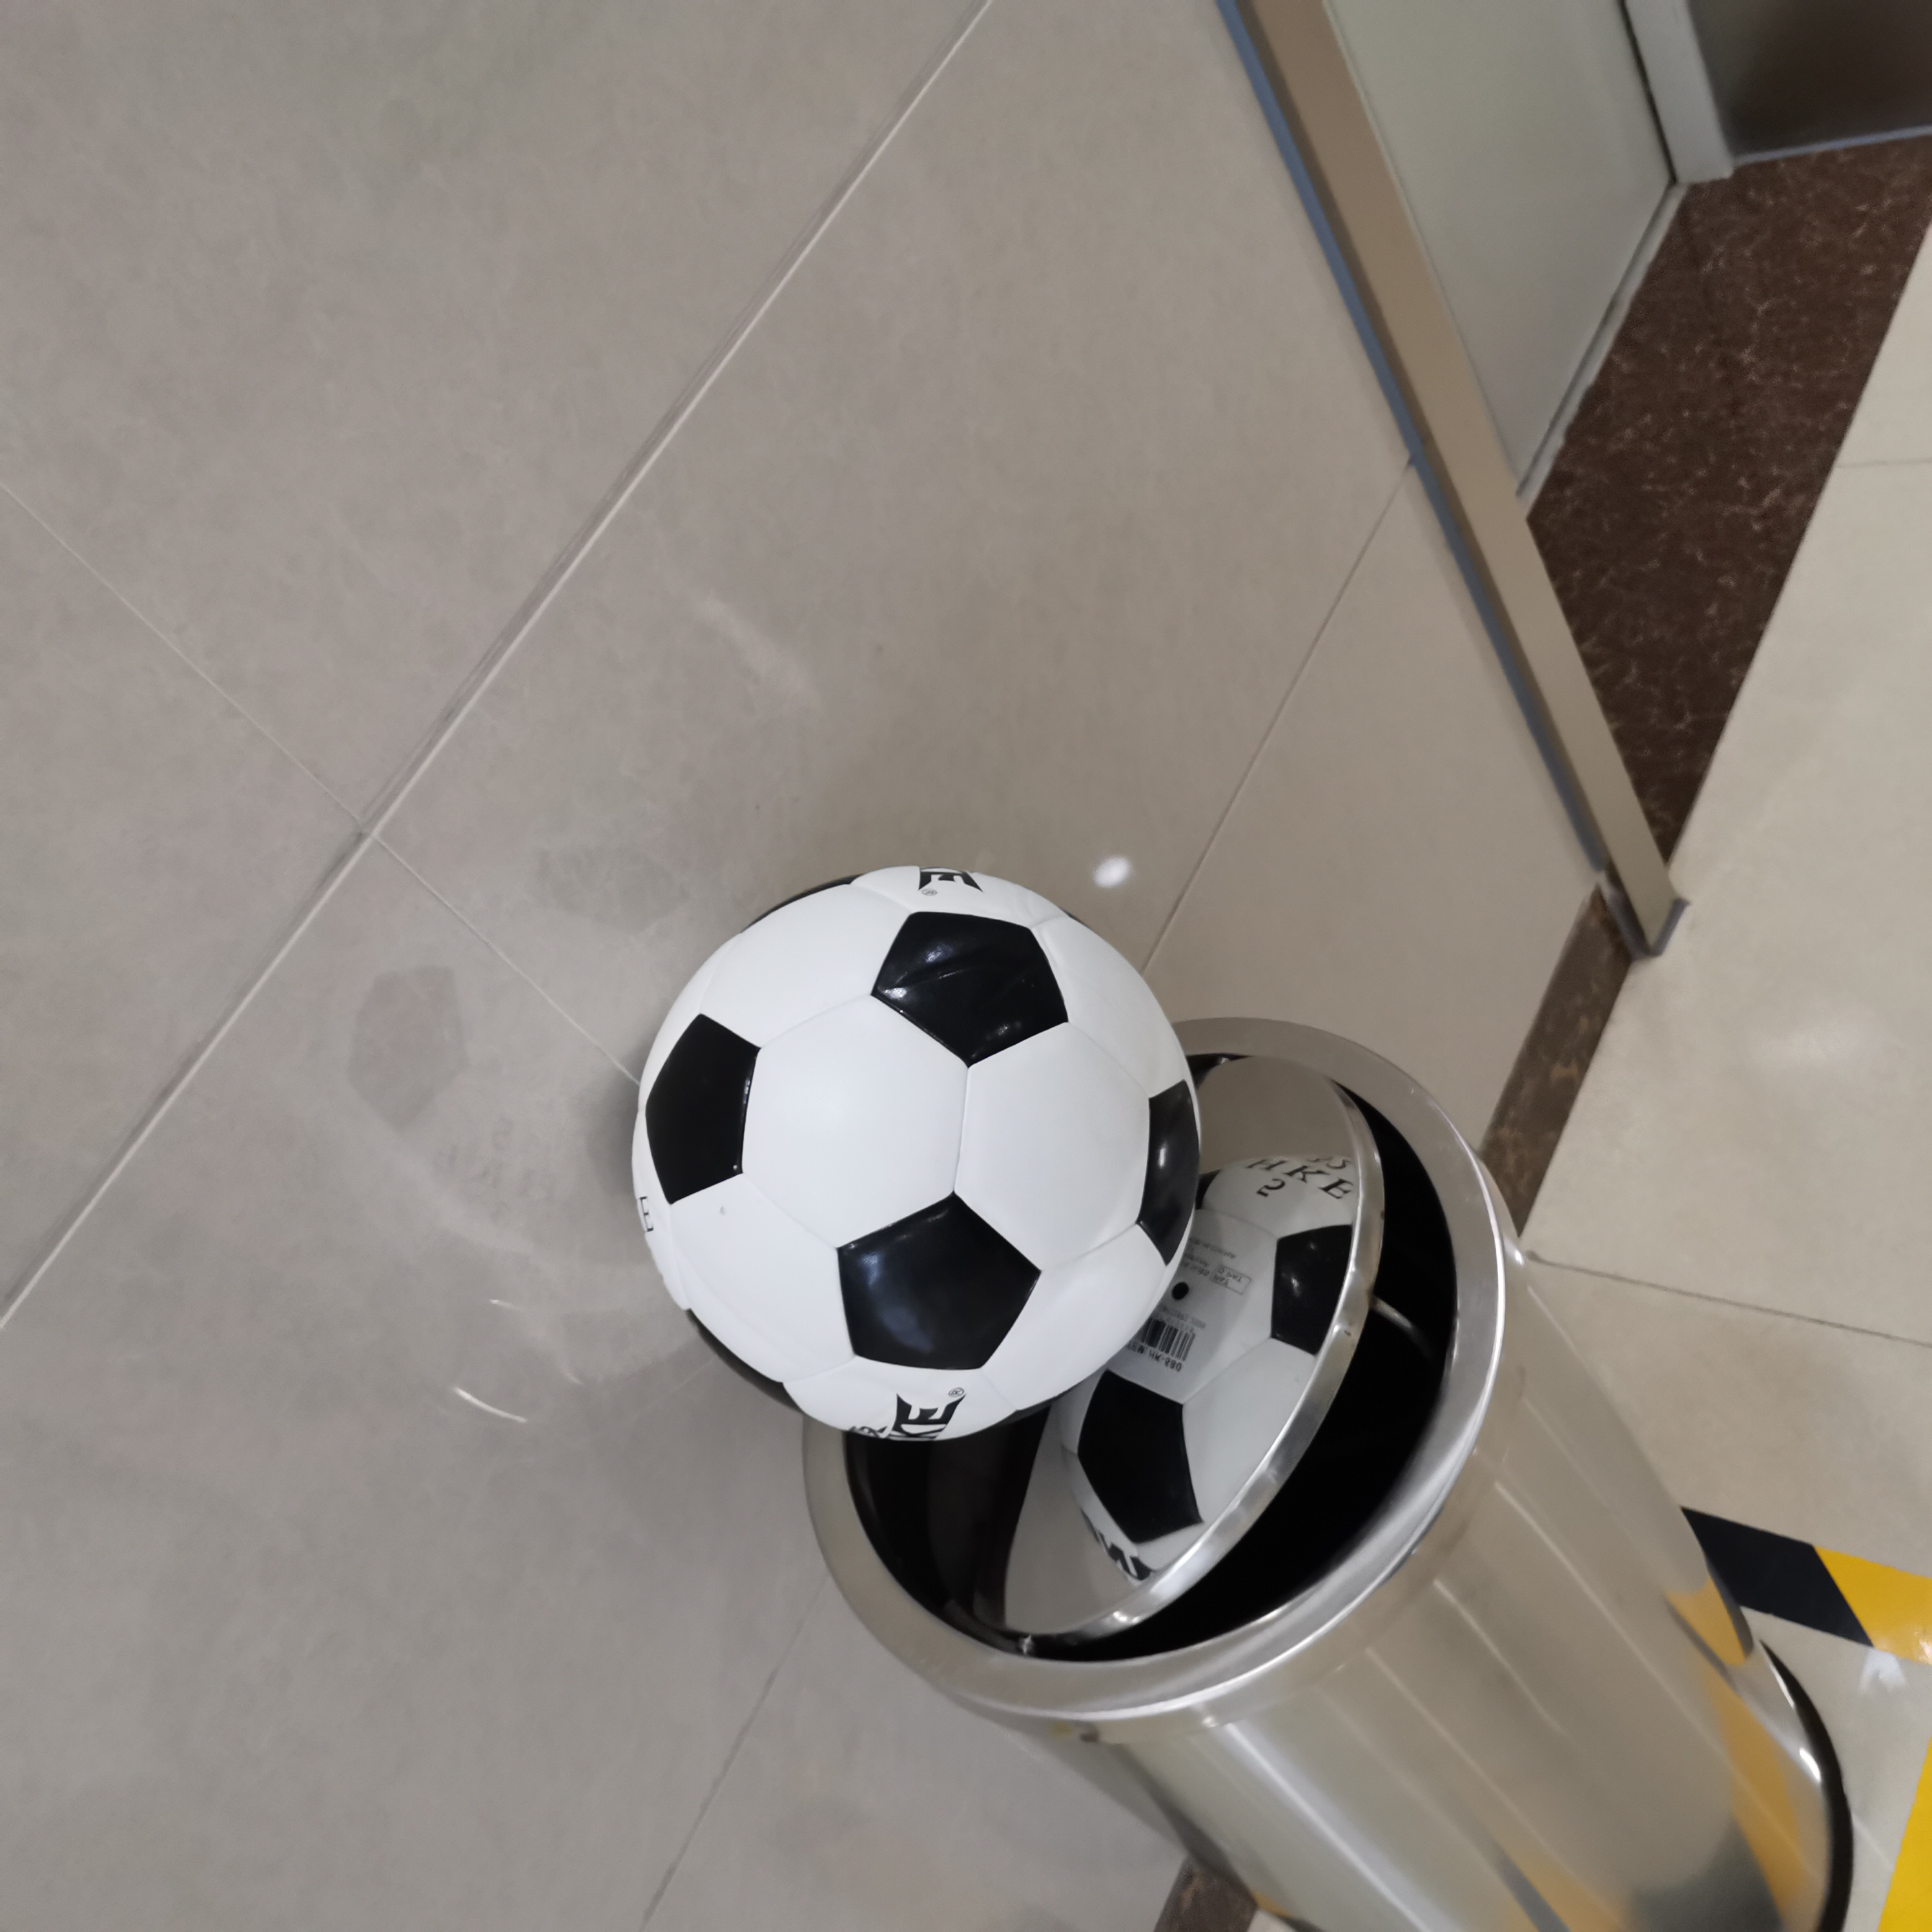football: (628, 863, 1203, 1449)
